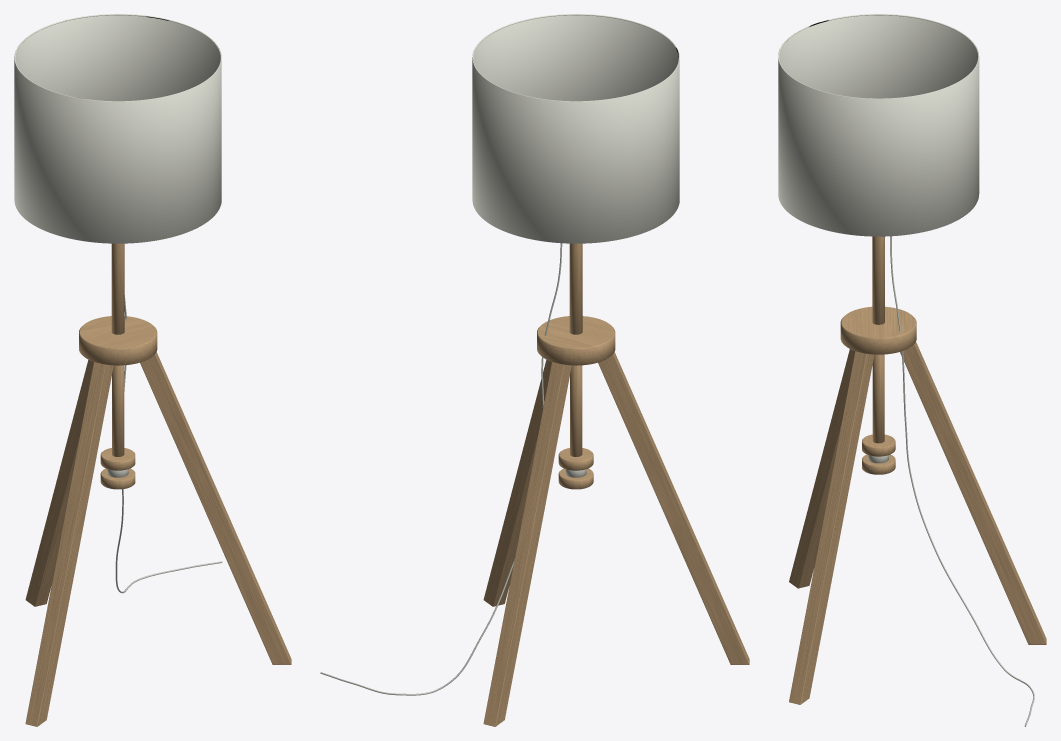
File: floor_stance.glb
3 views of the same model, side by side, from view 1: azimuth 30°, elevation 25°; view 2: azimuth 150°, elevation 25°; view 3: azimuth 270°, elevation 25° (orthographic). The views are drawn at different scales.
Parts seen in each view (by area): view 1: TPL_Open_drum_shade_GLB, TPL_Splayed_leg_1_GLB, TPL_Splayed_leg_2_GLB, TPL_Splayed_leg_3_GLB, TPL_Circular_hub_GLB, TPL_Upper_wooden_post_GLB, TPL_Lower_wooden_extension_GLB, TPL_Lower_disk_upper_GLB, TPL_Visible_power_cable_GLB, TPL_Top_fabric_edge_roll_GLB, TPL_Lower_disk_lower_GLB; view 2: TPL_Open_drum_shade_GLB, TPL_Splayed_leg_3_GLB, TPL_Splayed_leg_1_GLB, TPL_Splayed_leg_2_GLB, TPL_Circular_hub_GLB, TPL_Upper_wooden_post_GLB, TPL_Lower_wooden_extension_GLB, TPL_Visible_power_cable_GLB; view 3: TPL_Open_drum_shade_GLB, TPL_Splayed_leg_2_GLB, TPL_Splayed_leg_3_GLB, TPL_Splayed_leg_1_GLB, TPL_Circular_hub_GLB, TPL_Upper_wooden_post_GLB, TPL_Visible_power_cable_GLB, TPL_Lower_wooden_extension_GLB, TPL_Lower_disk_upper_GLB, TPL_Top_fabric_edge_roll_GLB, TPL_Lower_disk_lower_GLB.
Boxes of the visible parts, bbox=[...] form: TPL_Open_drum_shade_GLB: bbox=[14, 14, 221, 243]; TPL_Splayed_leg_1_GLB: bbox=[25, 362, 113, 726]; TPL_Splayed_leg_2_GLB: bbox=[140, 352, 291, 664]; TPL_Splayed_leg_3_GLB: bbox=[25, 359, 93, 606]; TPL_Circular_hub_GLB: bbox=[79, 316, 157, 365]; TPL_Upper_wooden_post_GLB: bbox=[111, 243, 124, 334]; TPL_Lower_wooden_extension_GLB: bbox=[112, 365, 124, 456]; TPL_Lower_disk_upper_GLB: bbox=[100, 448, 135, 470]; TPL_Visible_power_cable_GLB: bbox=[115, 295, 222, 593]; TPL_Top_fabric_edge_roll_GLB: bbox=[15, 14, 221, 101]; TPL_Lower_disk_lower_GLB: bbox=[100, 468, 135, 489]; TPL_Open_drum_shade_GLB: bbox=[472, 14, 679, 243]; TPL_Splayed_leg_3_GLB: bbox=[483, 362, 571, 726]; TPL_Splayed_leg_1_GLB: bbox=[598, 352, 749, 664]; TPL_Splayed_leg_2_GLB: bbox=[483, 359, 551, 606]; TPL_Circular_hub_GLB: bbox=[537, 316, 615, 365]; TPL_Upper_wooden_post_GLB: bbox=[569, 243, 582, 334]; TPL_Lower_wooden_extension_GLB: bbox=[570, 365, 582, 456]; TPL_Visible_power_cable_GLB: bbox=[320, 243, 562, 695]; TPL_Open_drum_shade_GLB: bbox=[778, 14, 979, 236]; TPL_Splayed_leg_2_GLB: bbox=[789, 351, 874, 704]; TPL_Splayed_leg_3_GLB: bbox=[900, 342, 1046, 644]; TPL_Splayed_leg_1_GLB: bbox=[789, 349, 855, 588]; TPL_Circular_hub_GLB: bbox=[840, 306, 916, 354]; TPL_Upper_wooden_post_GLB: bbox=[872, 236, 884, 324]; TPL_Visible_power_cable_GLB: bbox=[890, 236, 1034, 726]; TPL_Lower_wooden_extension_GLB: bbox=[872, 354, 884, 443]; TPL_Lower_disk_upper_GLB: bbox=[862, 434, 895, 456]; TPL_Top_fabric_edge_roll_GLB: bbox=[778, 14, 978, 98]; TPL_Lower_disk_lower_GLB: bbox=[862, 454, 895, 474].
Size of the model in its own units: 0.6442 by 1.19 by 0.4945.
19 materials, 12 textured.
